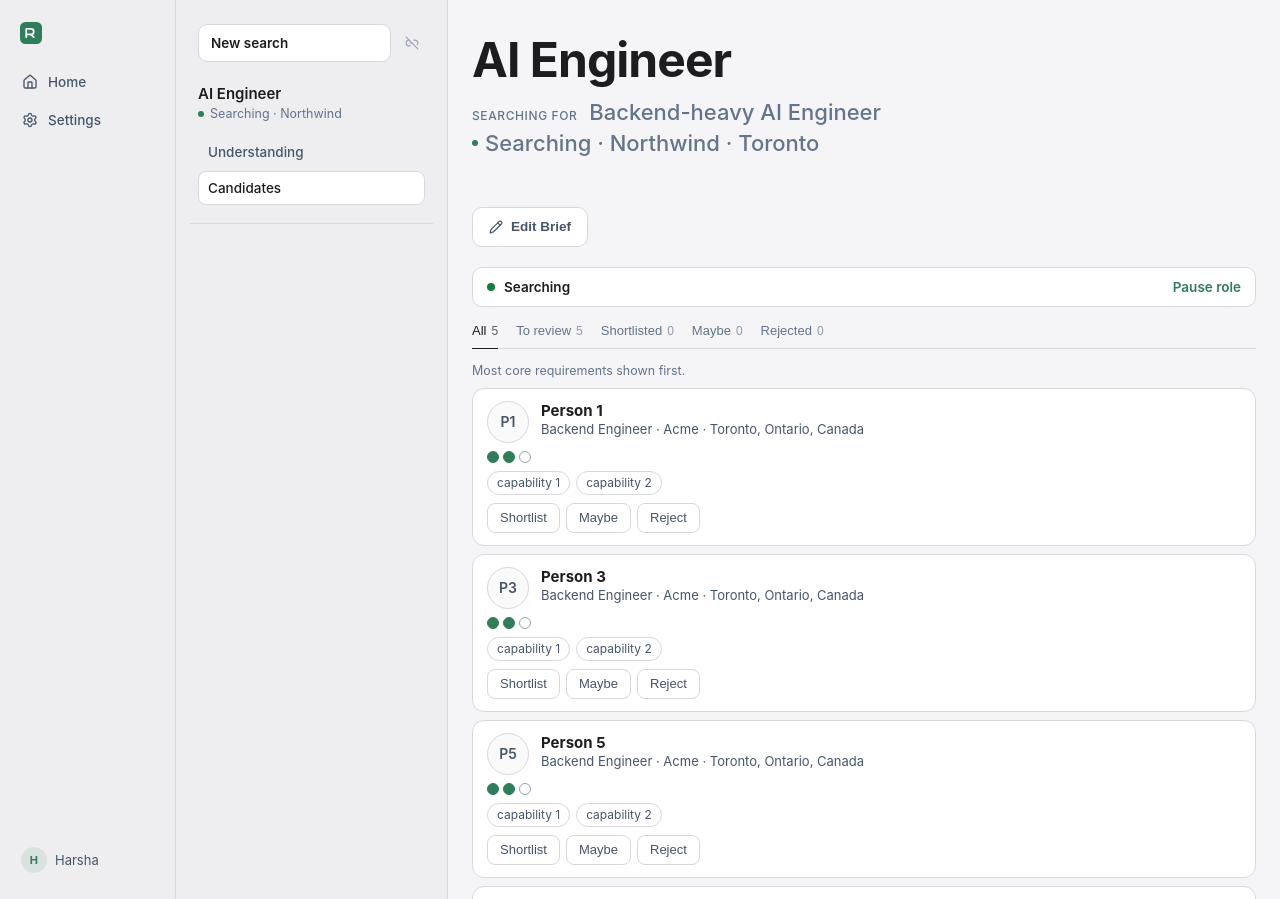
it: the sidebar and switching between searches › switching to another search restores that search, not the previous one
This screenshot has width=1280, height=899.
Expected: the heading "AI Engineer" is shown, [472,30,731,89]
Expected: the text with class "app-sidebar__role-title" reads "AI Engineer", [198,84,281,103]
Click the button "Home".
click(88, 82)  # box [12,64,163,100]
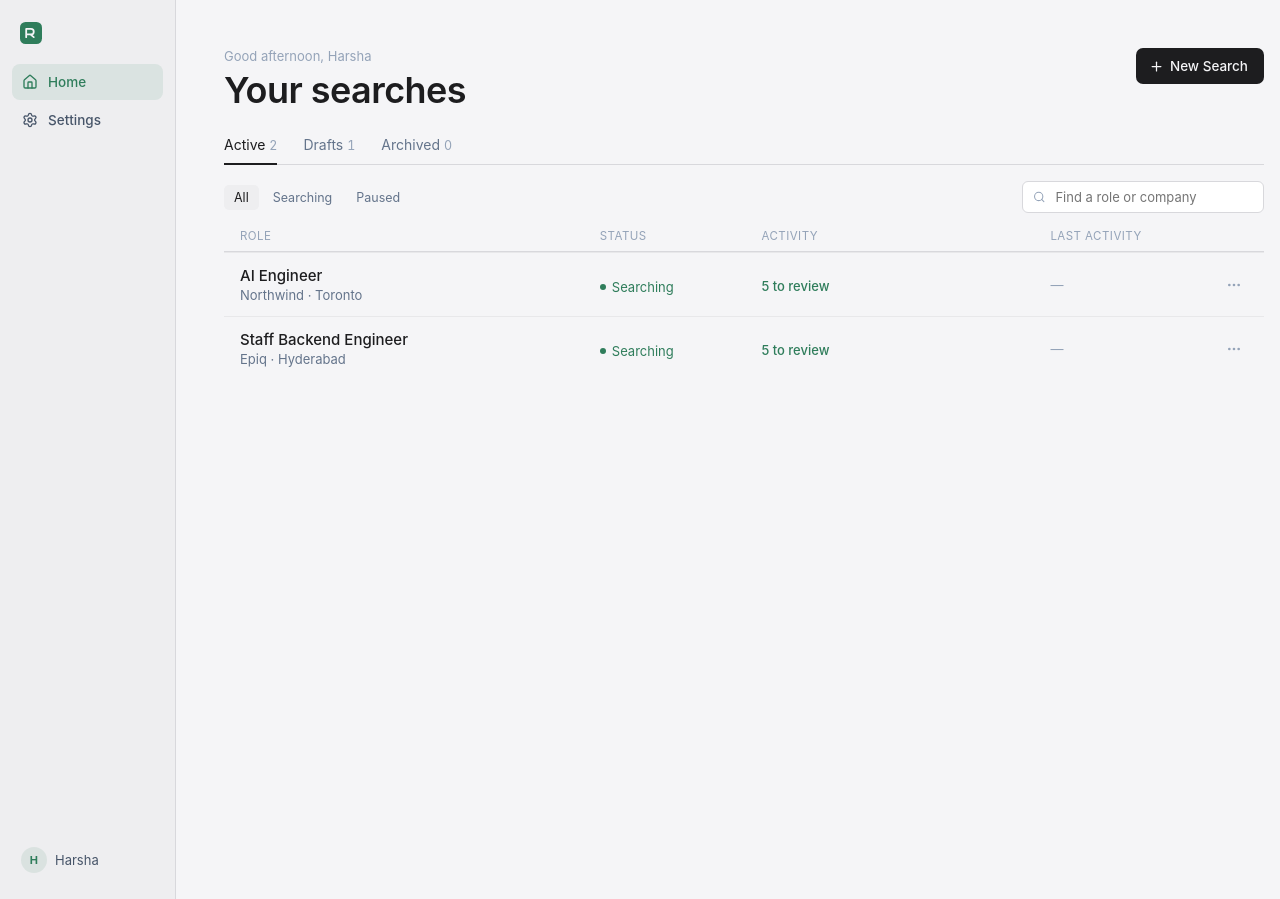
Click the element with class "home__row" that starts with "Staff Backend Engineer".
click(744, 348)  # box [224,316,1264,380]
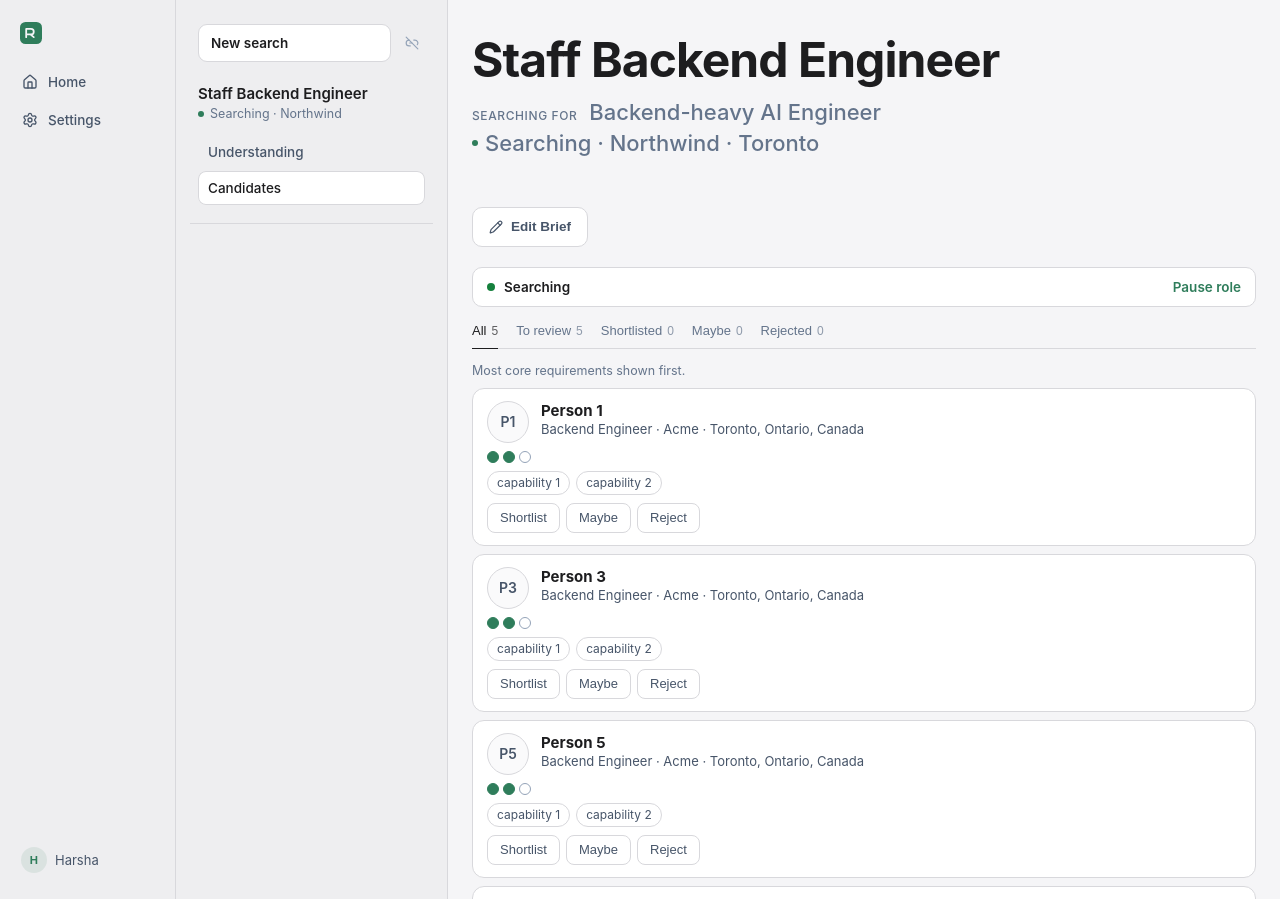
Expected: the heading "Staff Backend Engineer" is shown, [472,32,999,87]
Expected: the text with class "app-sidebar__role-title" reads "Staff Backend Engineer", [198,84,368,103]
